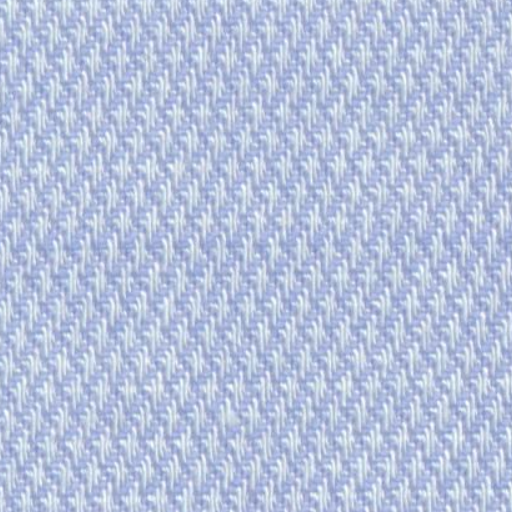TuoSha: (16, 230, 493, 310)
